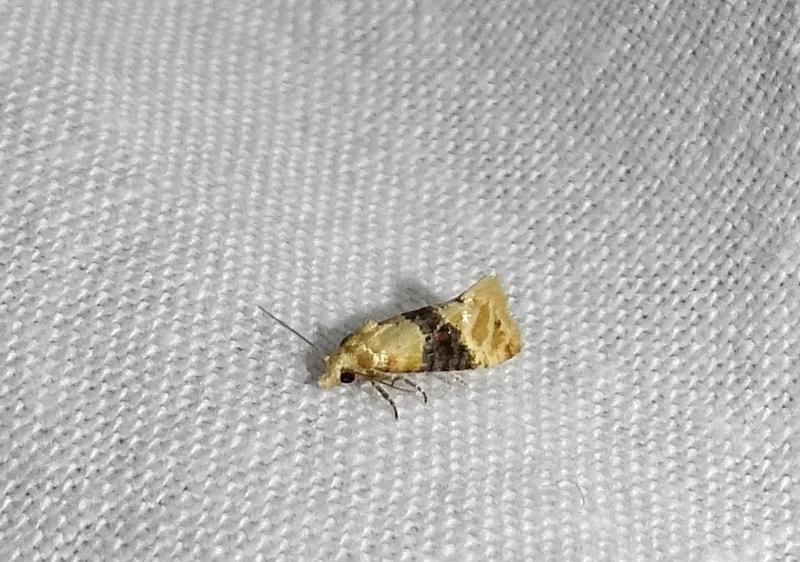Eupoecilia Ambiguella: (254, 271, 524, 422)
